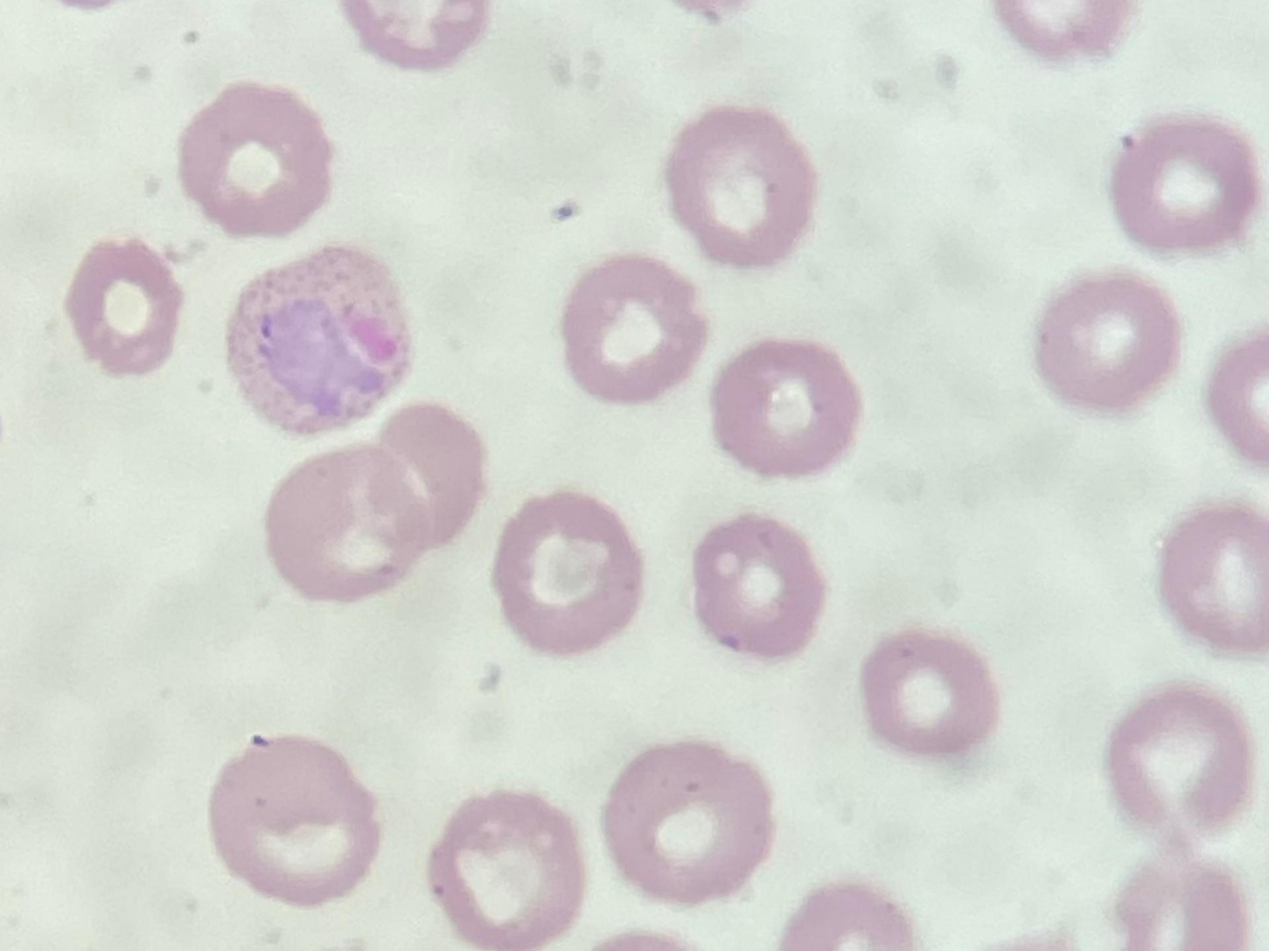Infected: (228, 247, 412, 433)
Uninfected: (210, 734, 381, 909), (605, 741, 771, 905), (264, 440, 430, 601), (664, 103, 822, 267), (492, 488, 643, 655), (428, 788, 585, 948), (175, 80, 336, 234), (565, 255, 708, 407), (1109, 684, 1254, 832), (1034, 273, 1178, 415), (711, 341, 859, 478), (1112, 116, 1256, 255), (694, 514, 822, 658), (859, 630, 996, 758), (59, 240, 183, 378), (1157, 503, 1269, 654), (373, 405, 486, 552)
